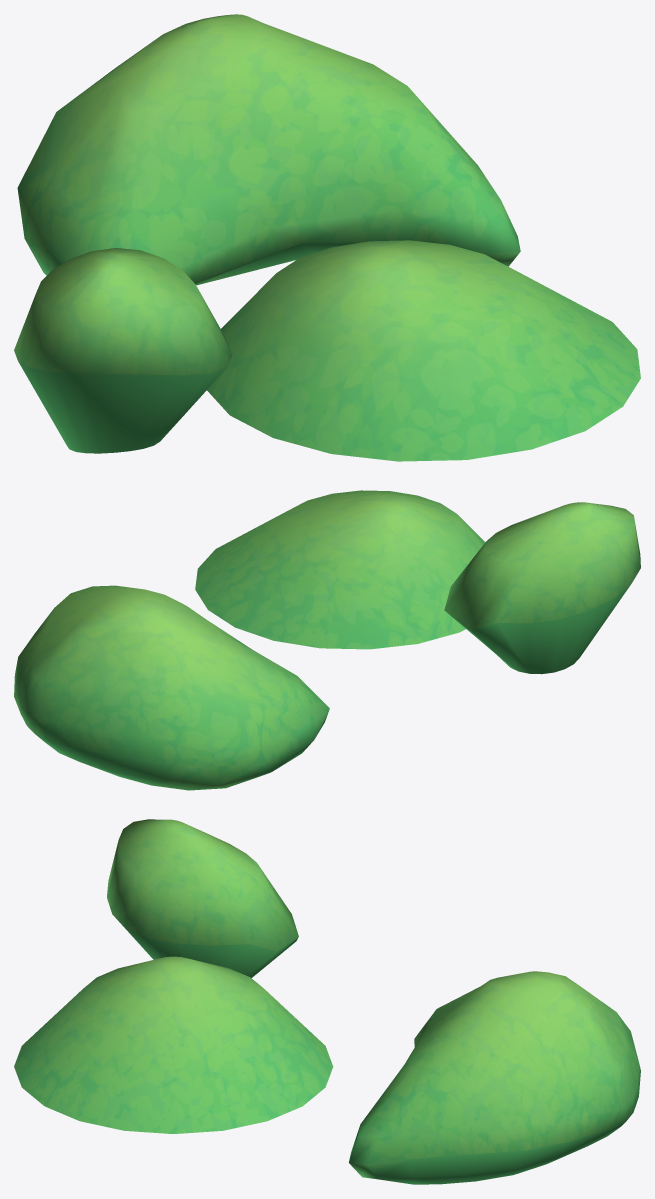
The model's file is PVB export buiten heuvels.fbx.
The picture shows the model from 3 angles, top to bottom: view 1: azimuth 30°, elevation 25°; view 2: azimuth 150°, elevation 25°; view 3: azimuth 270°, elevation 25°; orthographic projection. The views are drawn at different scales.
Parts seen in each view (by area): view 1: heuvel_3, heuvel_2, heuvel_1; view 2: heuvel_3, heuvel_2, heuvel_1; view 3: heuvel_3, heuvel_2, heuvel_1.
Boxes of the visible parts, x1,y1,x2,y2 form: heuvel_3: [17, 14, 520, 285]; heuvel_2: [207, 240, 640, 461]; heuvel_1: [14, 248, 232, 453]; heuvel_3: [14, 585, 329, 790]; heuvel_2: [195, 490, 485, 649]; heuvel_1: [444, 502, 640, 674]; heuvel_3: [349, 971, 640, 1184]; heuvel_2: [14, 956, 333, 1133]; heuvel_1: [107, 819, 298, 977].
Bounding box in the file's own units: 8.88 × 3.42 × 10.64.
1 material, 1 textured.
